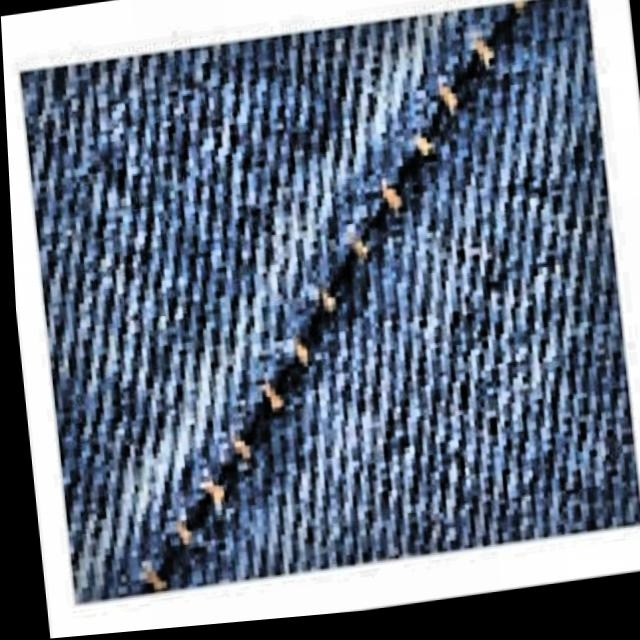seam: (55, 12, 611, 578)
